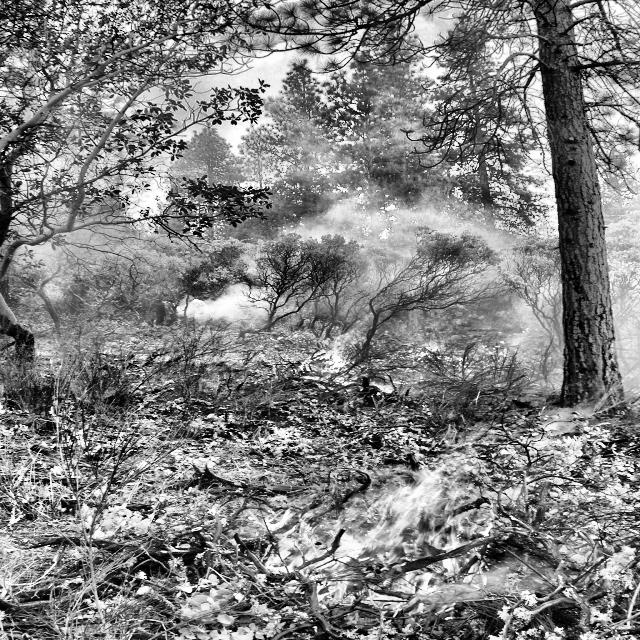fire: (192, 305, 555, 640)
